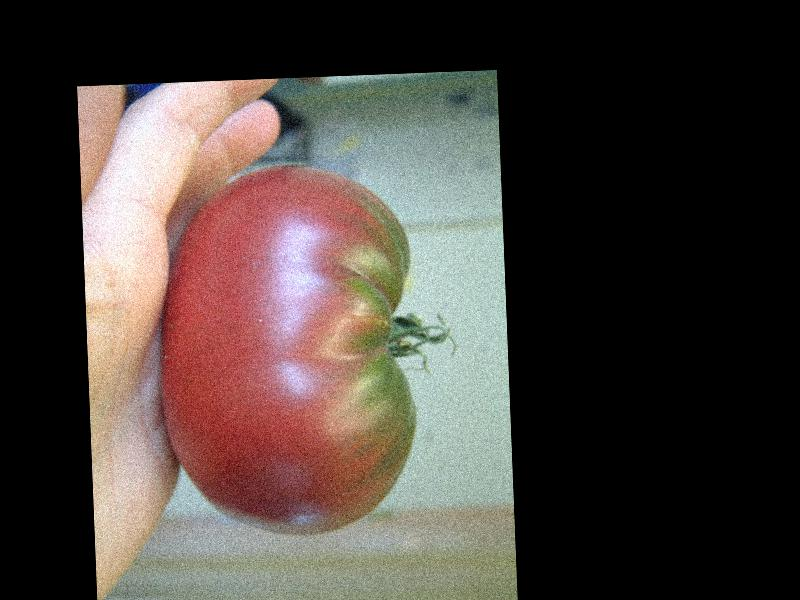Tomato: (153, 161, 421, 540)
